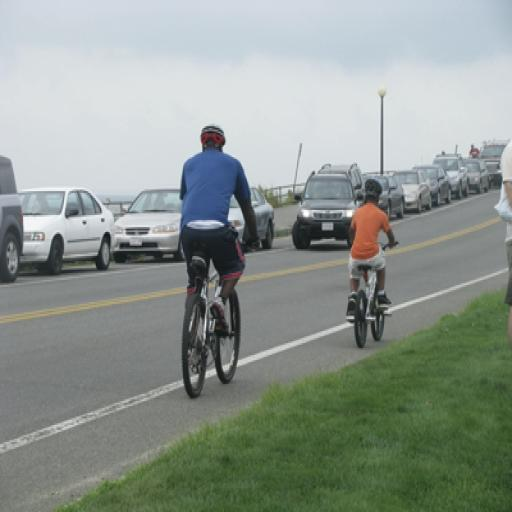With Helmet: (196, 121, 229, 161), (362, 176, 383, 205)
